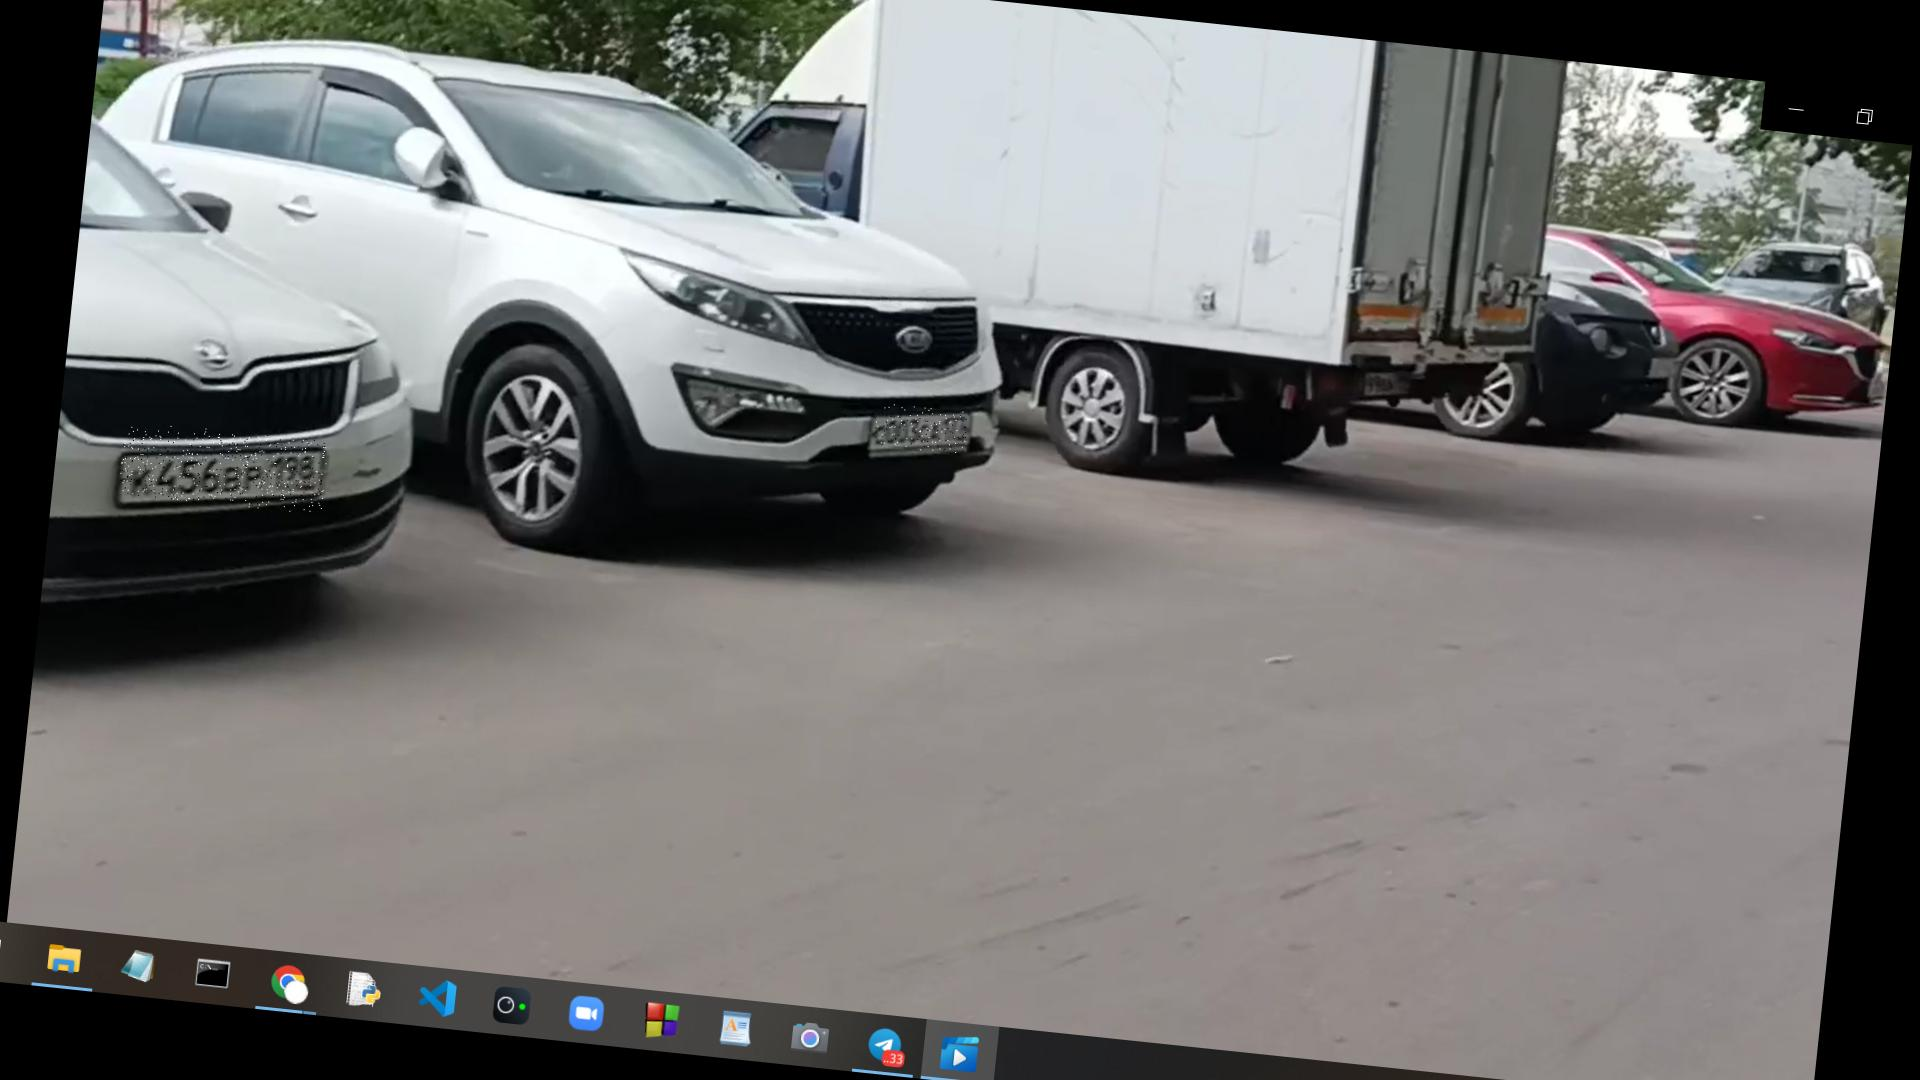plate: (119, 422, 331, 517), (875, 405, 970, 457)
